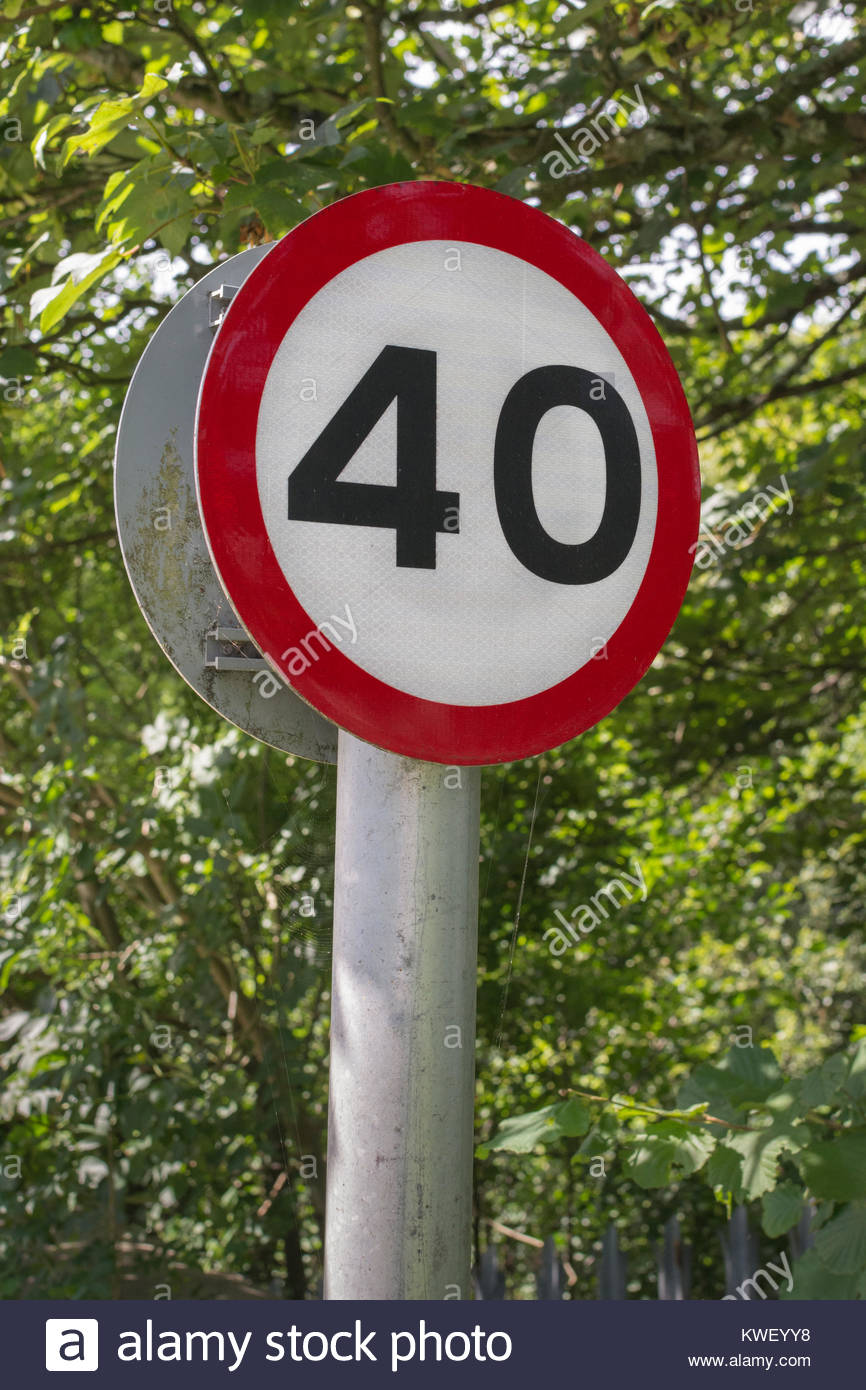40 Km/hr: (197, 178, 698, 765)
